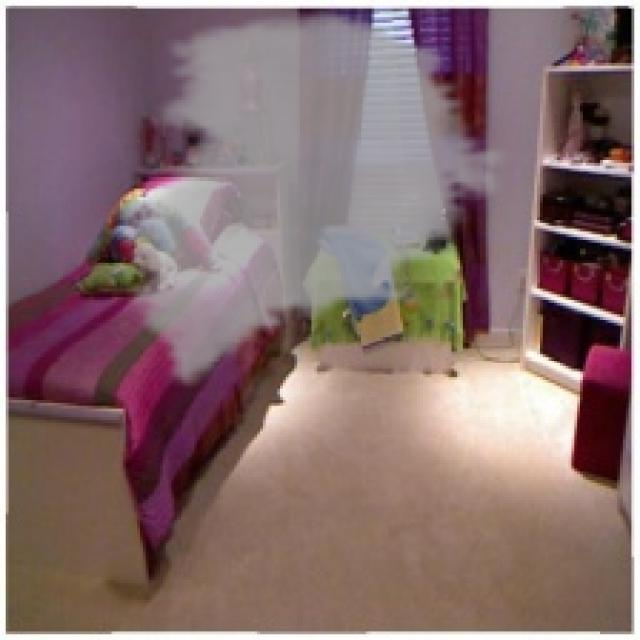smoke: (100, 6, 514, 388)
